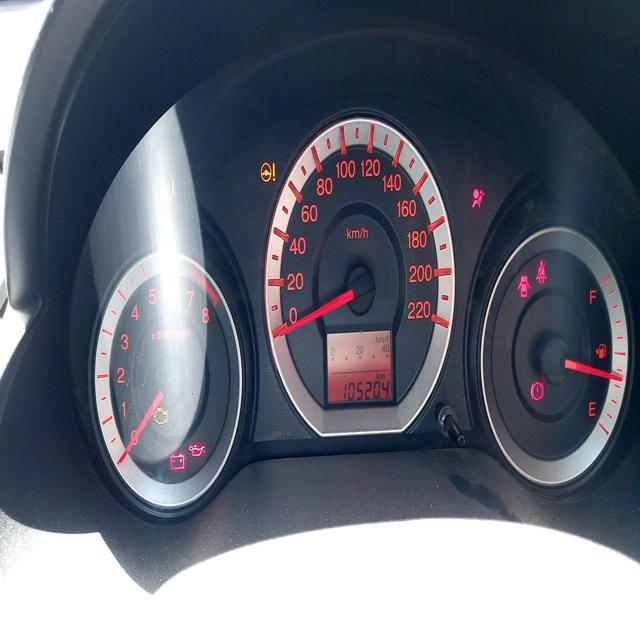odometer: (339, 376, 392, 400)
